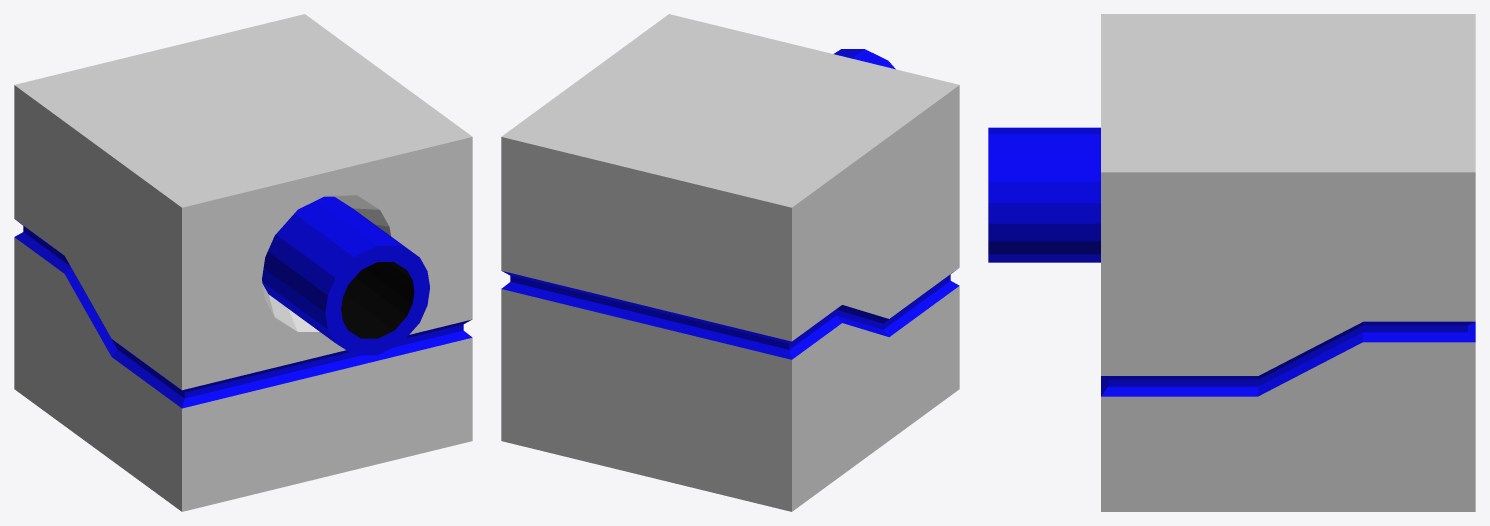
The model's file is Cubo.glb.
The picture shows the model from 3 angles, left to right: view 1: azimuth 30°, elevation 25°; view 2: azimuth 150°, elevation 25°; view 3: azimuth 270°, elevation 25°; orthographic projection. The views are drawn at different scales.
Visible parts, largest first — view 1: Deco; view 2: Deco; view 3: Deco.
Part boxes in pixels (bbox=[...]): Deco: bbox=[14, 14, 472, 511]; Deco: bbox=[501, 14, 959, 511]; Deco: bbox=[988, 14, 1475, 511].
Size of the model in its own units: 0.5 by 0.5 by 0.65.
